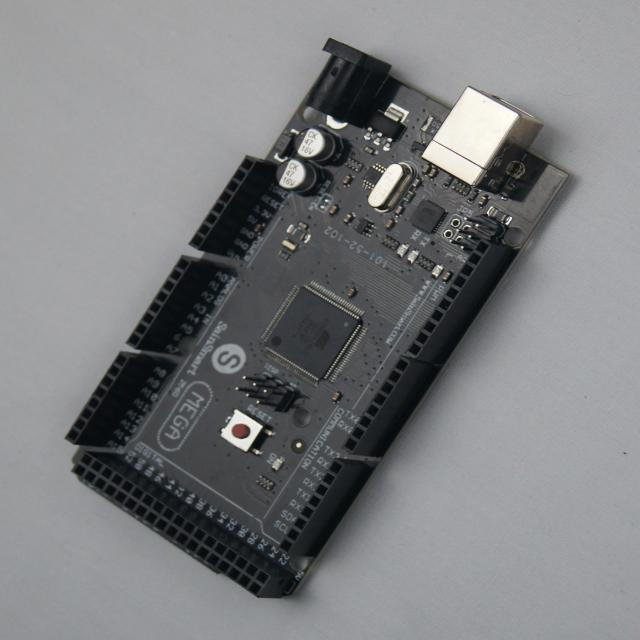Arduino Mega 2560 -Black-: (67, 40, 566, 597)
